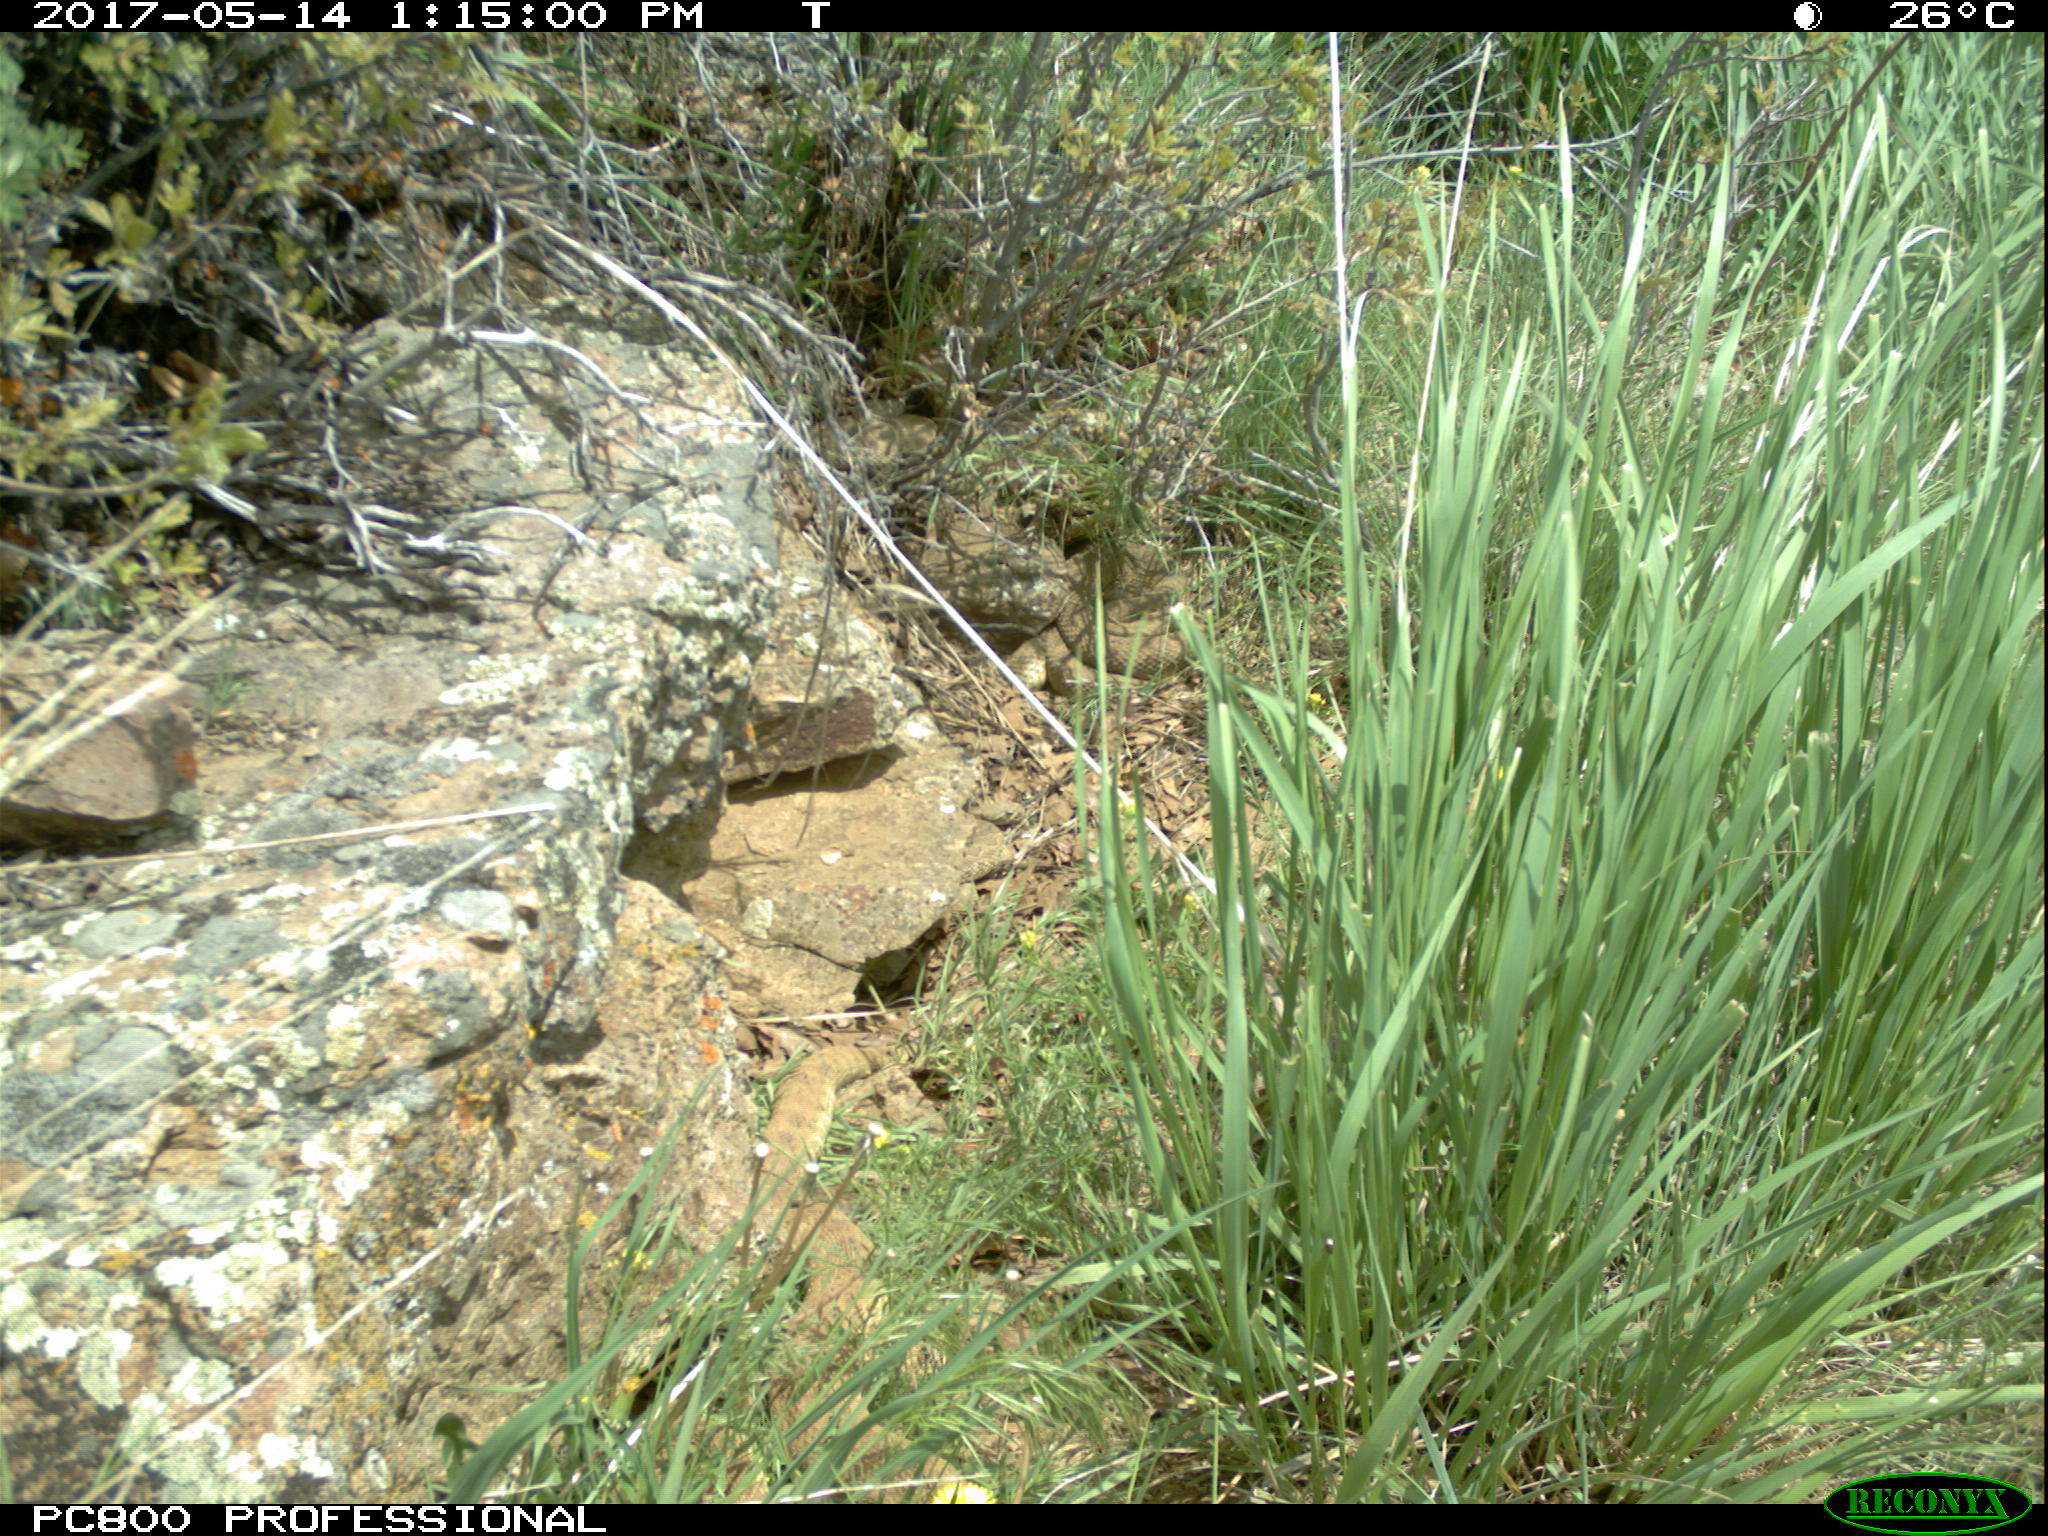snake: (751, 1041, 922, 1499), (1061, 544, 1208, 687), (998, 620, 1197, 697), (964, 820, 1030, 887)
